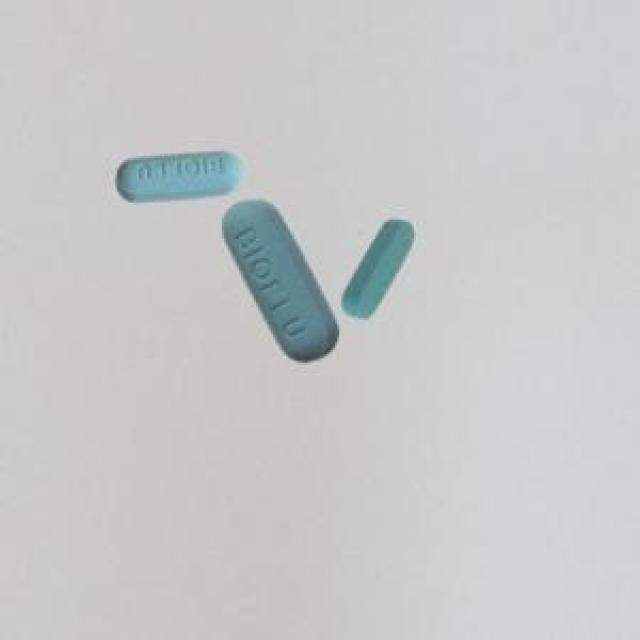Bioflu: (218, 196, 336, 375), (338, 193, 421, 331), (85, 136, 239, 204)
